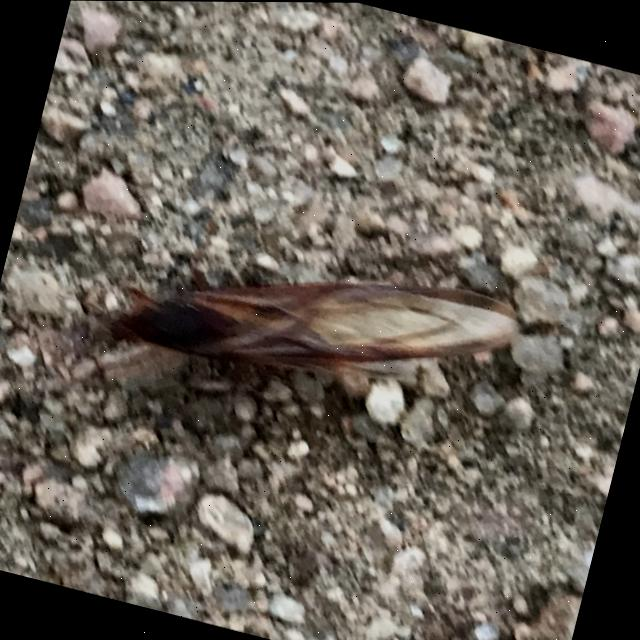Alive-Male-Alate: (19, 183, 528, 487)
